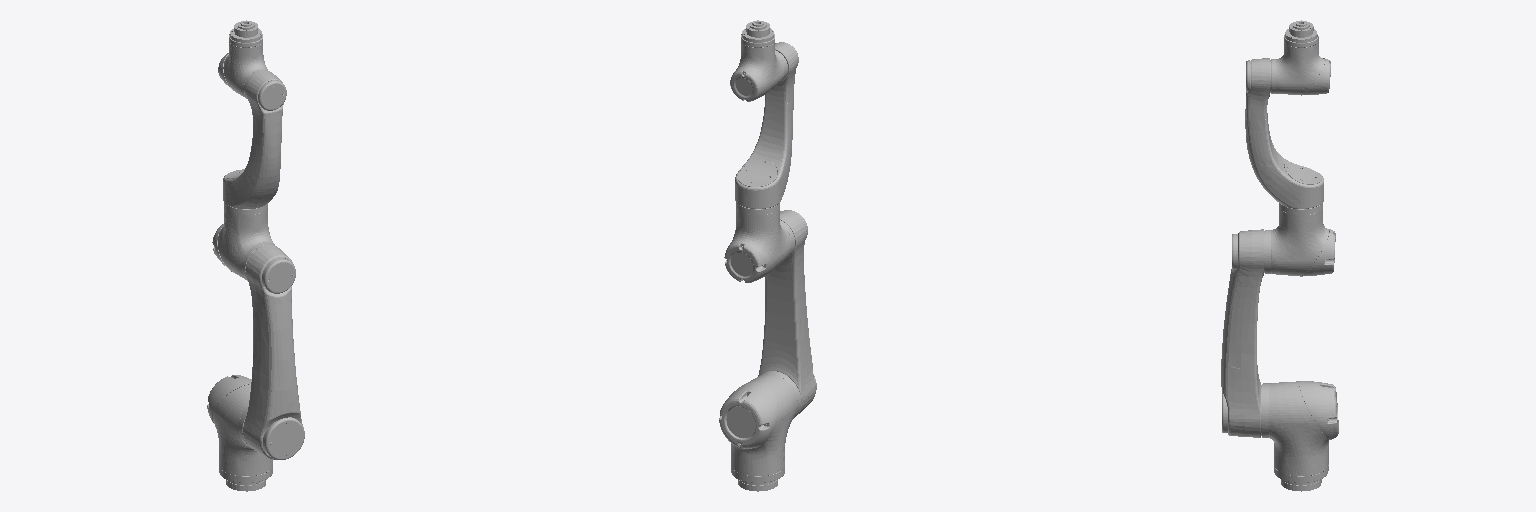
URDF robot description (E05-Pro_URDF_02):
<?xml version='1.0' encoding='utf-8'?>
<robot name="E05-Pro_URDF_02">
  <link name="base_link">
    <inertial>
      <origin xyz="-0.00158788846844817 4.6142172761265E-05 0.0313734556118603" rpy="0 0 0" />
      <mass value="0.998522736747206" />
      <inertia ixx="0.0021807794838045" ixy="-1.10772765054772E-05" ixz="-1.56720979176519E-05" iyy="0.00196166940823962" iyz="4.20416903357984E-07" izz="0.00353246534574899" />
    </inertial>
    <visual>
      <origin xyz="0 0 0" rpy="0 0 0" />
      <geometry>
        <mesh filename="package://E05-Pro_URDF_02/meshes/base_link.STL" />
      </geometry>
      <material name="">
        <color rgba="1 1 1 1" />
      </material>
    </visual>
    <collision>
      <origin xyz="0 0 0" rpy="0 0 0" />
      <geometry>
        <mesh filename="package://E05-Pro_URDF_02/meshes/base_link.STL" />
      </geometry>
    </collision>
  </link>
  <link name="Link1">
    <inertial>
      <origin xyz="2.1578276014807E-06 -0.0215159925037315 0.168229058225794" rpy="0 0 0" />
      <mass value="6.78664420680423" />
      <inertia ixx="0.0132997275971525" ixy="2.25912851576254E-07" ixz="1.52452192172506E-06" iyy="0.0133080720800587" iyz="0.000747294389502896" izz="0.011795051182041" />
    </inertial>
    <visual>
      <origin xyz="0 0 0" rpy="0 0 0" />
      <geometry>
        <mesh filename="package://E05-Pro_URDF_02/meshes/Link1.STL" />
      </geometry>
      <material name="">
        <color rgba="0.752941176470588 0.752941176470588 0.752941176470588 1" />
      </material>
    </visual>
    <collision>
      <origin xyz="0 0 0" rpy="0 0 0" />
      <geometry>
        <mesh filename="package://E05-Pro_URDF_02/meshes/Link1.STL" />
      </geometry>
    </collision>
  </link>
  <joint name="joint1" type="revolute">
    <origin xyz="0 0 0" rpy="0 0 0" />
    <parent link="base_link" />
    <child link="Link1" />
    <axis xyz="0 0 1" />
    <limit lower="-6.2832" upper="6.2832" effort="0" velocity="0" />
  </joint>
  <link name="Link2">
    <inertial>
      <origin xyz="-2.00073033881343E-06 0.167753569240279 0.127199029669634" rpy="0 0 0" />
      <mass value="2.73060015924574" />
      <inertia ixx="0.0448936509117266" ixy="-3.15751450111188E-06" ixz="3.45673157630767E-07" iyy="0.00390073708079011" iyz="0.00140914199308716" izz="0.0460883030443444" />
    </inertial>
    <visual>
      <origin xyz="0 0 0" rpy="0 0 0" />
      <geometry>
        <mesh filename="package://E05-Pro_URDF_02/meshes/Link2.STL" />
      </geometry>
      <material name="">
        <color rgba="0.752941176470588 0.752941176470588 0.752941176470588 1" />
      </material>
    </visual>
    <collision>
      <origin xyz="0 0 0" rpy="0 0 0" />
      <geometry>
        <mesh filename="package://E05-Pro_URDF_02/meshes/Link2.STL" />
      </geometry>
    </collision>
  </link>
  <joint name="joint2" type="revolute">
    <origin xyz="0 0 0.22" rpy="1.5708 0 0" />
    <parent link="Link1" />
    <child link="Link2" />
    <axis xyz="0 0 1" />
    <limit lower="-2.3562" upper="2.3562" effort="0" velocity="0" />
  </joint>
  <link name="Link3">
    <inertial>
      <origin xyz="0.0352184273820696 2.41909685256341E-05 -0.0121180840398653" rpy="0 0 0" />
      <mass value="2.08601739160147" />
      <inertia ixx="0.00306112203558347" ixy="-1.43735553212495E-06" ixz="-0.000325341875544202" iyy="0.00347459546346466" iyz="2.30786657787726E-06" izz="0.00355723705728163" />
    </inertial>
    <visual>
      <origin xyz="0 0 0" rpy="0 0 0" />
      <geometry>
        <mesh filename="package://E05-Pro_URDF_02/meshes/Link3.STL" />
      </geometry>
      <material name="">
        <color rgba="0.752941176470588 0.752941176470588 0.752941176470588 1" />
      </material>
    </visual>
    <collision>
      <origin xyz="0 0 0" rpy="0 0 0" />
      <geometry>
        <mesh filename="package://E05-Pro_URDF_02/meshes/Link3.STL" />
      </geometry>
    </collision>
  </link>
  <joint name="joint3" type="revolute">
    <origin xyz="0 0.38 0" rpy="3.1416 0 1.5708" />
    <parent link="Link2" />
    <child link="Link3" />
    <axis xyz="0 0 1" />
    <limit lower="-2.6704" upper="2.6704" effort="0" velocity="0" />
  </joint>
  <link name="Link4">
    <inertial>
      <origin xyz="-4.28336538625205E-05 -0.0549759197419269 0.253634401021535" rpy="0 0 0" />
      <mass value="1.54646552002007" />
      <inertia ixx="0.0162246447470394" ixy="-2.38039499209717E-06" ixz="7.85073619593135E-06" iyy="0.0146194414462511" iyz="0.00401271365692684" izz="0.0036982468539112" />
    </inertial>
    <visual>
      <origin xyz="0 0 0" rpy="0 0 0" />
      <geometry>
        <mesh filename="package://E05-Pro_URDF_02/meshes/Link4.STL" />
      </geometry>
      <material name="">
        <color rgba="0.752941176470588 0.752941176470588 0.752941176470588 1" />
      </material>
    </visual>
    <collision>
      <origin xyz="0 0 0" rpy="0 0 0" />
      <geometry>
        <mesh filename="package://E05-Pro_URDF_02/meshes/Link4.STL" />
      </geometry>
    </collision>
  </link>
  <joint name="joint4" type="revolute">
    <origin xyz="0 0 0" rpy="1.5708 0 1.5708" />
    <parent link="Link3" />
    <child link="Link4" />
    <axis xyz="0 0 1" />
    <limit lower="-6.2832" upper="6.2832" effort="0" velocity="0" />
  </joint>
  <link name="Link5">
    <inertial>
      <origin xyz="-1.72880099484723E-05 -0.0289400290992108 -0.0109715375755361" rpy="0 0 0" />
      <mass value="1.16352936044046" />
      <inertia ixx="0.00120577438146647" ixy="-1.74222669059798E-07" ixz="3.7226615382989E-07" iyy="0.00107897226540983" iyz="0.000116911789070789" izz="0.0012050301195773" />
    </inertial>
    <visual>
      <origin xyz="0 0 0" rpy="0 0 0" />
      <geometry>
        <mesh filename="package://E05-Pro_URDF_02/meshes/Link5.STL" />
      </geometry>
      <material name="">
        <color rgba="0.752941176470588 0.752941176470588 0.752941176470588 1" />
      </material>
    </visual>
    <collision>
      <origin xyz="0 0 0" rpy="0 0 0" />
      <geometry>
        <mesh filename="package://E05-Pro_URDF_02/meshes/Link5.STL" />
      </geometry>
    </collision>
  </link>
  <joint name="joint5" type="revolute">
    <origin xyz="0 0 0.42" rpy="-1.5708 0 0" />
    <parent link="Link4" />
    <child link="Link5" />
    <axis xyz="0 0 1" />
    <limit lower="-3.1416" upper="3.1416" effort="0" velocity="0" />
  </joint>
  <link name="Link6">
    <inertial>
      <origin xyz="0.00107605821278543 -8.97149790928267E-05 0.139776300638692" rpy="0 0 0" />
      <mass value="0.631518581713551" />
      <inertia ixx="0.000348061722864063" ixy="8.28449678383342E-07" ixz="8.74576740157527E-08" iyy="0.000343623874182545" iyz="6.14107668981212E-07" izz="0.000633530929770647" />
    </inertial>
    <visual>
      <origin xyz="0 0 0" rpy="0 0 0" />
      <geometry>
        <mesh filename="package://E05-Pro_URDF_02/meshes/Link6.STL" />
      </geometry>
      <material name="">
        <color rgba="0.752941176470588 0.752941176470588 0.752941176470588 1" />
      </material>
    </visual>
    <collision>
      <origin xyz="0 0 0" rpy="0 0 0" />
      <geometry>
        <mesh filename="package://E05-Pro_URDF_02/meshes/Link6.STL" />
      </geometry>
    </collision>
  </link>
  <joint name="joint6" type="revolute">
    <origin xyz="0 0 0" rpy="1.5708 0 0" />
    <parent link="Link5" />
    <child link="Link6" />
    <axis xyz="0 0 1" />
    <limit lower="-6.2832" upper="6.2832" effort="0" velocity="0" />
  </joint>
  <link name="end_Link">
    <inertial>
      <origin xyz="0.00107605821278545 -8.97149790928508E-05 -0.0352236952806575" rpy="0 0 0" />
      <mass value="0.631518581713551" />
      <inertia ixx="0.000348061722864063" ixy="8.28449678383342E-07" ixz="8.74576740157524E-08" iyy="0.000343623874182545" iyz="6.14107668981211E-07" izz="0.000633530929770647" />
    </inertial>
    <visual>
      <origin xyz="0 0 0" rpy="0 0 0" />
      <geometry>
        <mesh filename="package://E05-Pro_URDF_02/meshes/end_Link.STL" />
      </geometry>
      <material name="">
        <color rgba="0.752941176470588 0.752941176470588 0.752941176470588 1" />
      </material>
    </visual>
    <collision>
      <origin xyz="0 0 0" rpy="0 0 0" />
      <geometry>
        <mesh filename="package://E05-Pro_URDF_02/meshes/end_Link.STL" />
      </geometry>
    </collision>
  </link>
  <joint name="end_joint" type="fixed">
    <origin xyz="0 0 0.175" rpy="0 0 0" />
    <parent link="Link6" />
    <child link="end_Link" />
    <axis xyz="0 0 0" />
  </joint>
</robot>

--- Facts derived from the render (not from the file) ---
The picture shows the robot from 3 angles, left to right: view 1: azimuth 30°, elevation 25°; view 2: azimuth 150°, elevation 25°; view 3: azimuth 270°, elevation 25°; orthographic projection.
Model E05-Pro_URDF_02 with 8 links and 7 joints (6 revolute, 1 fixed), rooted at base_link, posed all joints at 0.
Links seen in each view (by area): view 1: Link2, Link4, Link1, Link3, Link5; view 2: Link1, Link2, Link4, Link3, Link5; view 3: Link2, Link1, Link4, Link3, Link5.
Link boxes in pixels (x1=…): Link2: x1=243, y1=245, x2=304, y2=459; Link4: x1=223, y1=71, x2=286, y2=208; Link1: x1=207, y1=375, x2=272, y2=491; Link3: x1=212, y1=202, x2=274, y2=280; Link5: x1=218, y1=20, x2=267, y2=98; Link1: x1=719, y1=371, x2=800, y2=491; Link2: x1=758, y1=210, x2=816, y2=413; Link4: x1=735, y1=42, x2=798, y2=208; Link3: x1=724, y1=202, x2=794, y2=282; Link5: x1=730, y1=20, x2=787, y2=101; Link2: x1=1221, y1=229, x2=1263, y2=437; Link1: x1=1261, y1=381, x2=1338, y2=491; Link4: x1=1245, y1=58, x2=1323, y2=208; Link3: x1=1264, y1=203, x2=1335, y2=276; Link5: x1=1270, y1=20, x2=1330, y2=95.
Bounding box of the posed robot: 0.1292 × 0.2555 × 1.11 m (x, y, z).
5 mesh visuals loaded from 8 distinct referenced files (5 binary STL); not drawn: 3 (reference not matched to a file when rendering).
